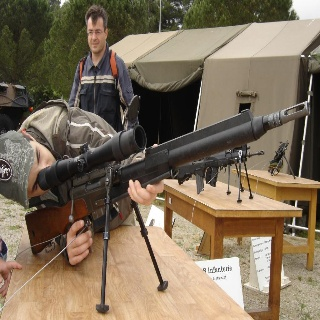rifle: (22, 101, 312, 312)
